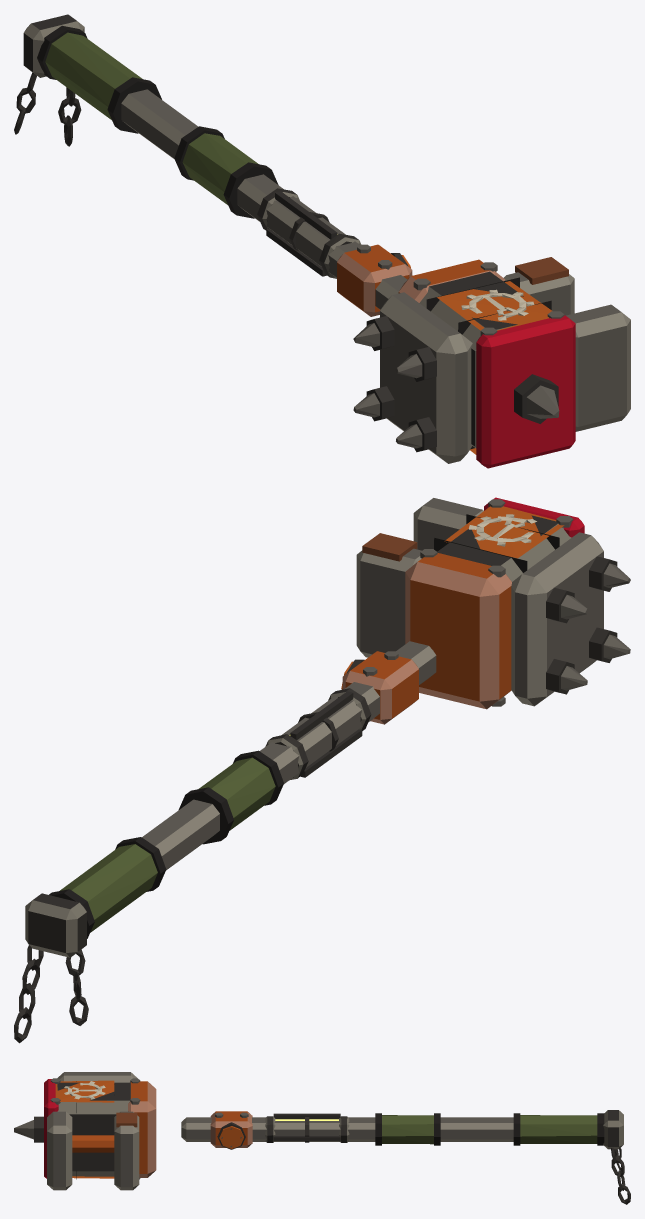
File: w_brute_wrenchhammer.glb
The picture shows the model from 3 angles, top to bottom: view 1: azimuth 30°, elevation 25°; view 2: azimuth 150°, elevation 25°; view 3: azimuth 270°, elevation 25°; orthographic projection. The views are drawn at different scales.
Parts seen in each view (by area): view 1: w_brute_wrenchhammer; view 2: w_brute_wrenchhammer; view 3: w_brute_wrenchhammer.
Boxes of the visible parts, x1,y1,x2,y2 form: w_brute_wrenchhammer: (14,14,630,468); w_brute_wrenchhammer: (14,497,630,1043); w_brute_wrenchhammer: (14,1072,630,1204).
Size of the model in its own units: 0.3577 by 0.2839 by 1.47.
